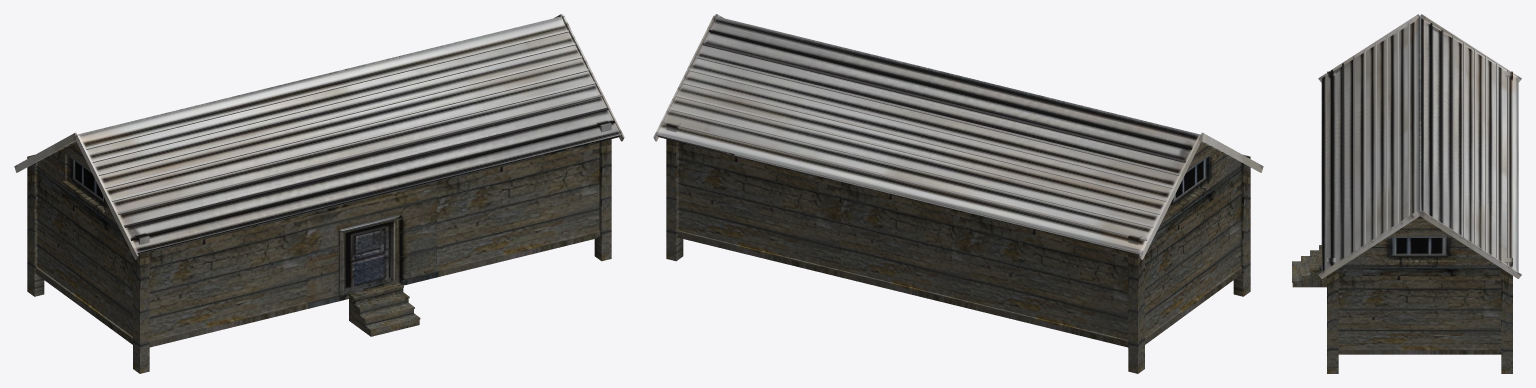
Rendered from s_barracks_cad.glb.
3 renders of one model, left to right at view 1: azimuth 30°, elevation 25°; view 2: azimuth 150°, elevation 25°; view 3: azimuth 270°, elevation 25°, orthographic. The views are drawn at different scales.
Parts seen in each view (by area): view 1: Box03; view 2: Box03; view 3: Box03.
Part boxes in pixels (x1,y1,x2,y2): Box03: (14,14,624,373); Box03: (653,14,1263,373); Box03: (1292,14,1521,373).
Size of the model in its own units: 19.17 by 7.56 by 9.46.
Materials: 1 (1 with a texture image).
